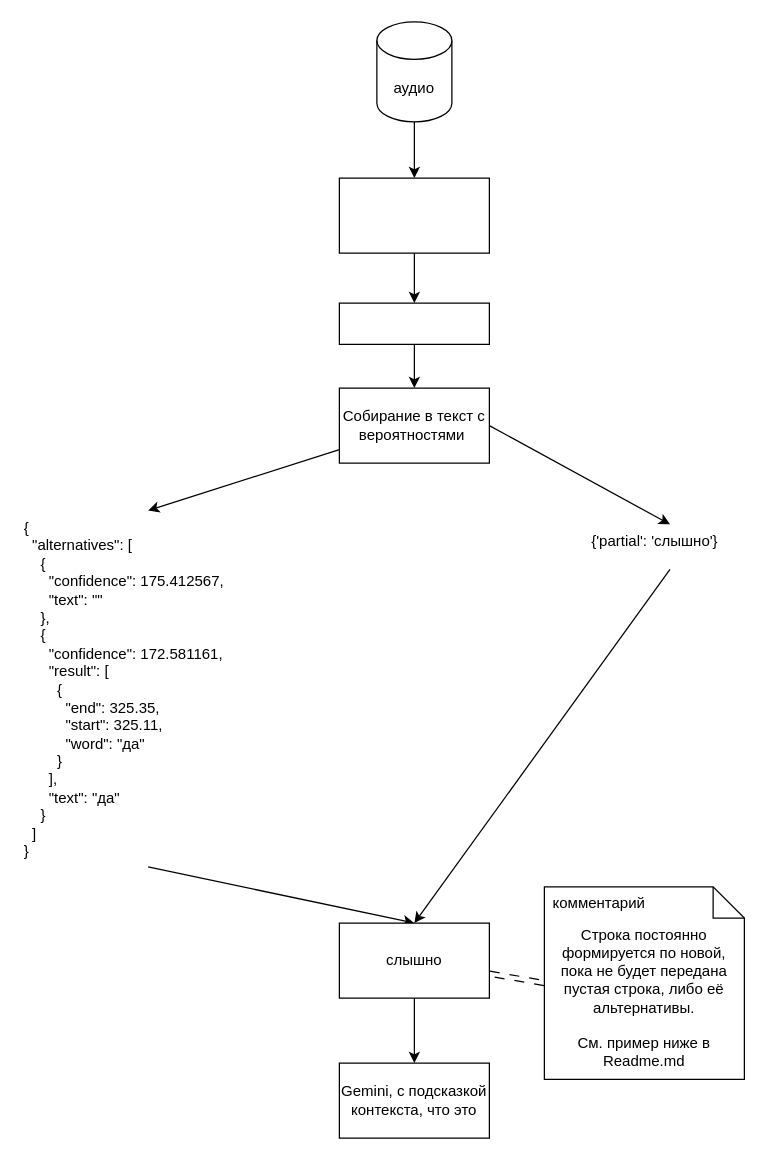
The diagram is 771 pixels wide and 1160 high, and some of its shapes have lost their labels. The shapes that lost their labels are listed below. From the top down, each one's box as (x1, y1, x2, y2) in pixels, then its label:
(338, 177, 489, 253): Разбиение на чанки
(338, 302, 489, 344): Отправка в vosk-ai
